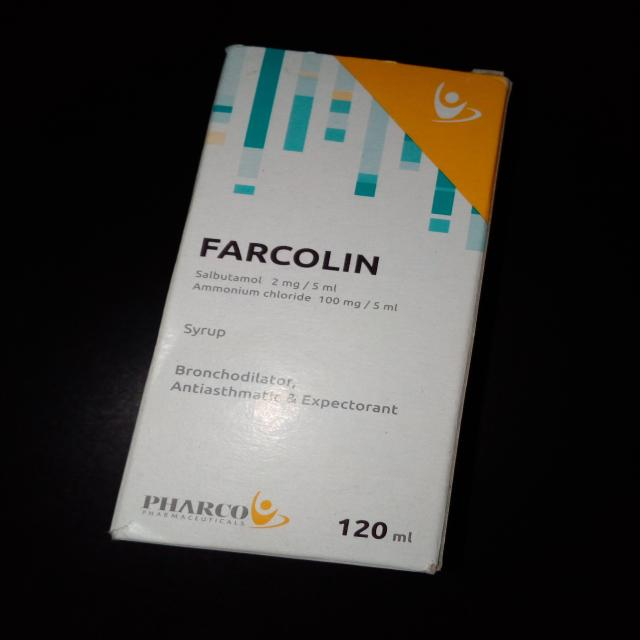Medicine: (104, 40, 524, 572)
